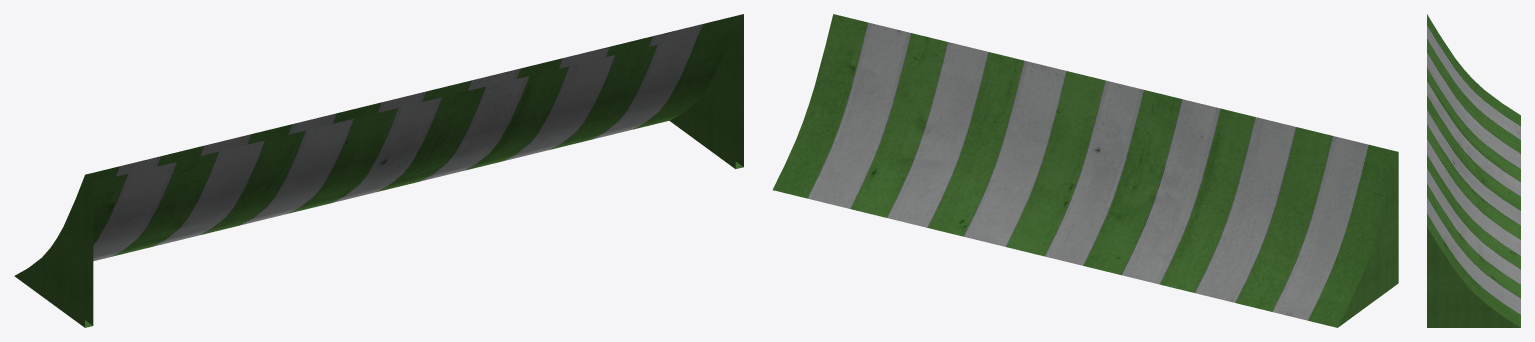
The picture shows the model from 3 angles, left to right: view 1: azimuth 30°, elevation 25°; view 2: azimuth 150°, elevation 25°; view 3: azimuth 270°, elevation 25°; orthographic projection. The views are drawn at different scales.
Parts seen in each view (by area): view 1: Awn (8); view 2: Awn (8); view 3: Awn (8).
Part boxes in pixels (left/top/right/bottom): Awn (8): left=14, top=14, right=743, bottom=327; Awn (8): left=772, top=14, right=1398, bottom=327; Awn (8): left=1427, top=14, right=1520, bottom=327.
Size of the model in its own units: 1278 by 284 by 239.
